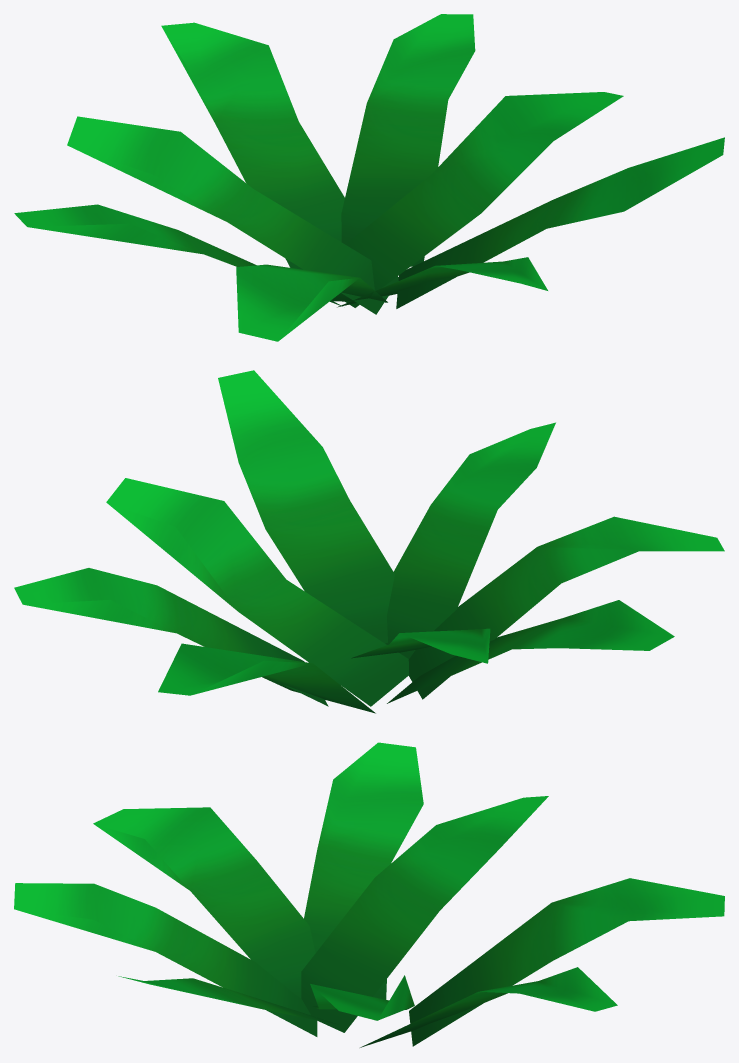
The model's file is matinho4.fbx.
3 renders of one model, top to bottom at view 1: azimuth 30°, elevation 25°; view 2: azimuth 150°, elevation 25°; view 3: azimuth 270°, elevation 25°, orthographic. The views are drawn at different scales.
Visible parts, largest first — view 1: matinho2; view 2: matinho2; view 3: matinho2.
Boxes of the visible parts, x1,y1,x2,y2 form: matinho2: [14, 14, 724, 341]; matinho2: [14, 370, 724, 713]; matinho2: [14, 742, 724, 1047].
Bounding box in the file's own units: 75.44 × 21.2 × 82.35.
Materials: 1 (1 with a texture image).
